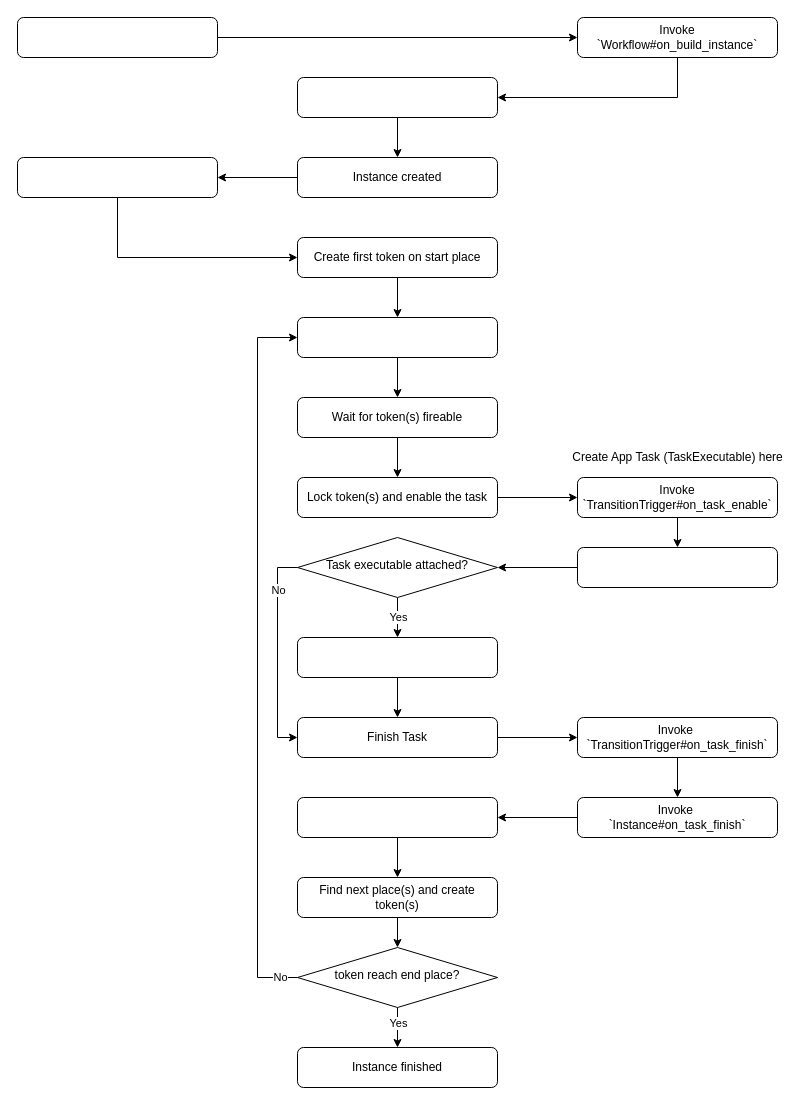
This 810x1105 diagram has some shape labels left out. Each missing label, with the box of its shape:
Activate the instance `Instance#activate`: (16, 156, 218, 198)
Consume locked token(s): (296, 796, 498, 838)
Create a instance `Workflow#create_instance``: (16, 16, 218, 58)
Create task(s) for the token can transit to: (296, 316, 498, 358)
Invoke `Instance#on_task_enable`: (576, 546, 778, 588)
Save the instance `Instance#save`: (296, 76, 498, 118)
Wait until task executable finished: (296, 636, 498, 678)
